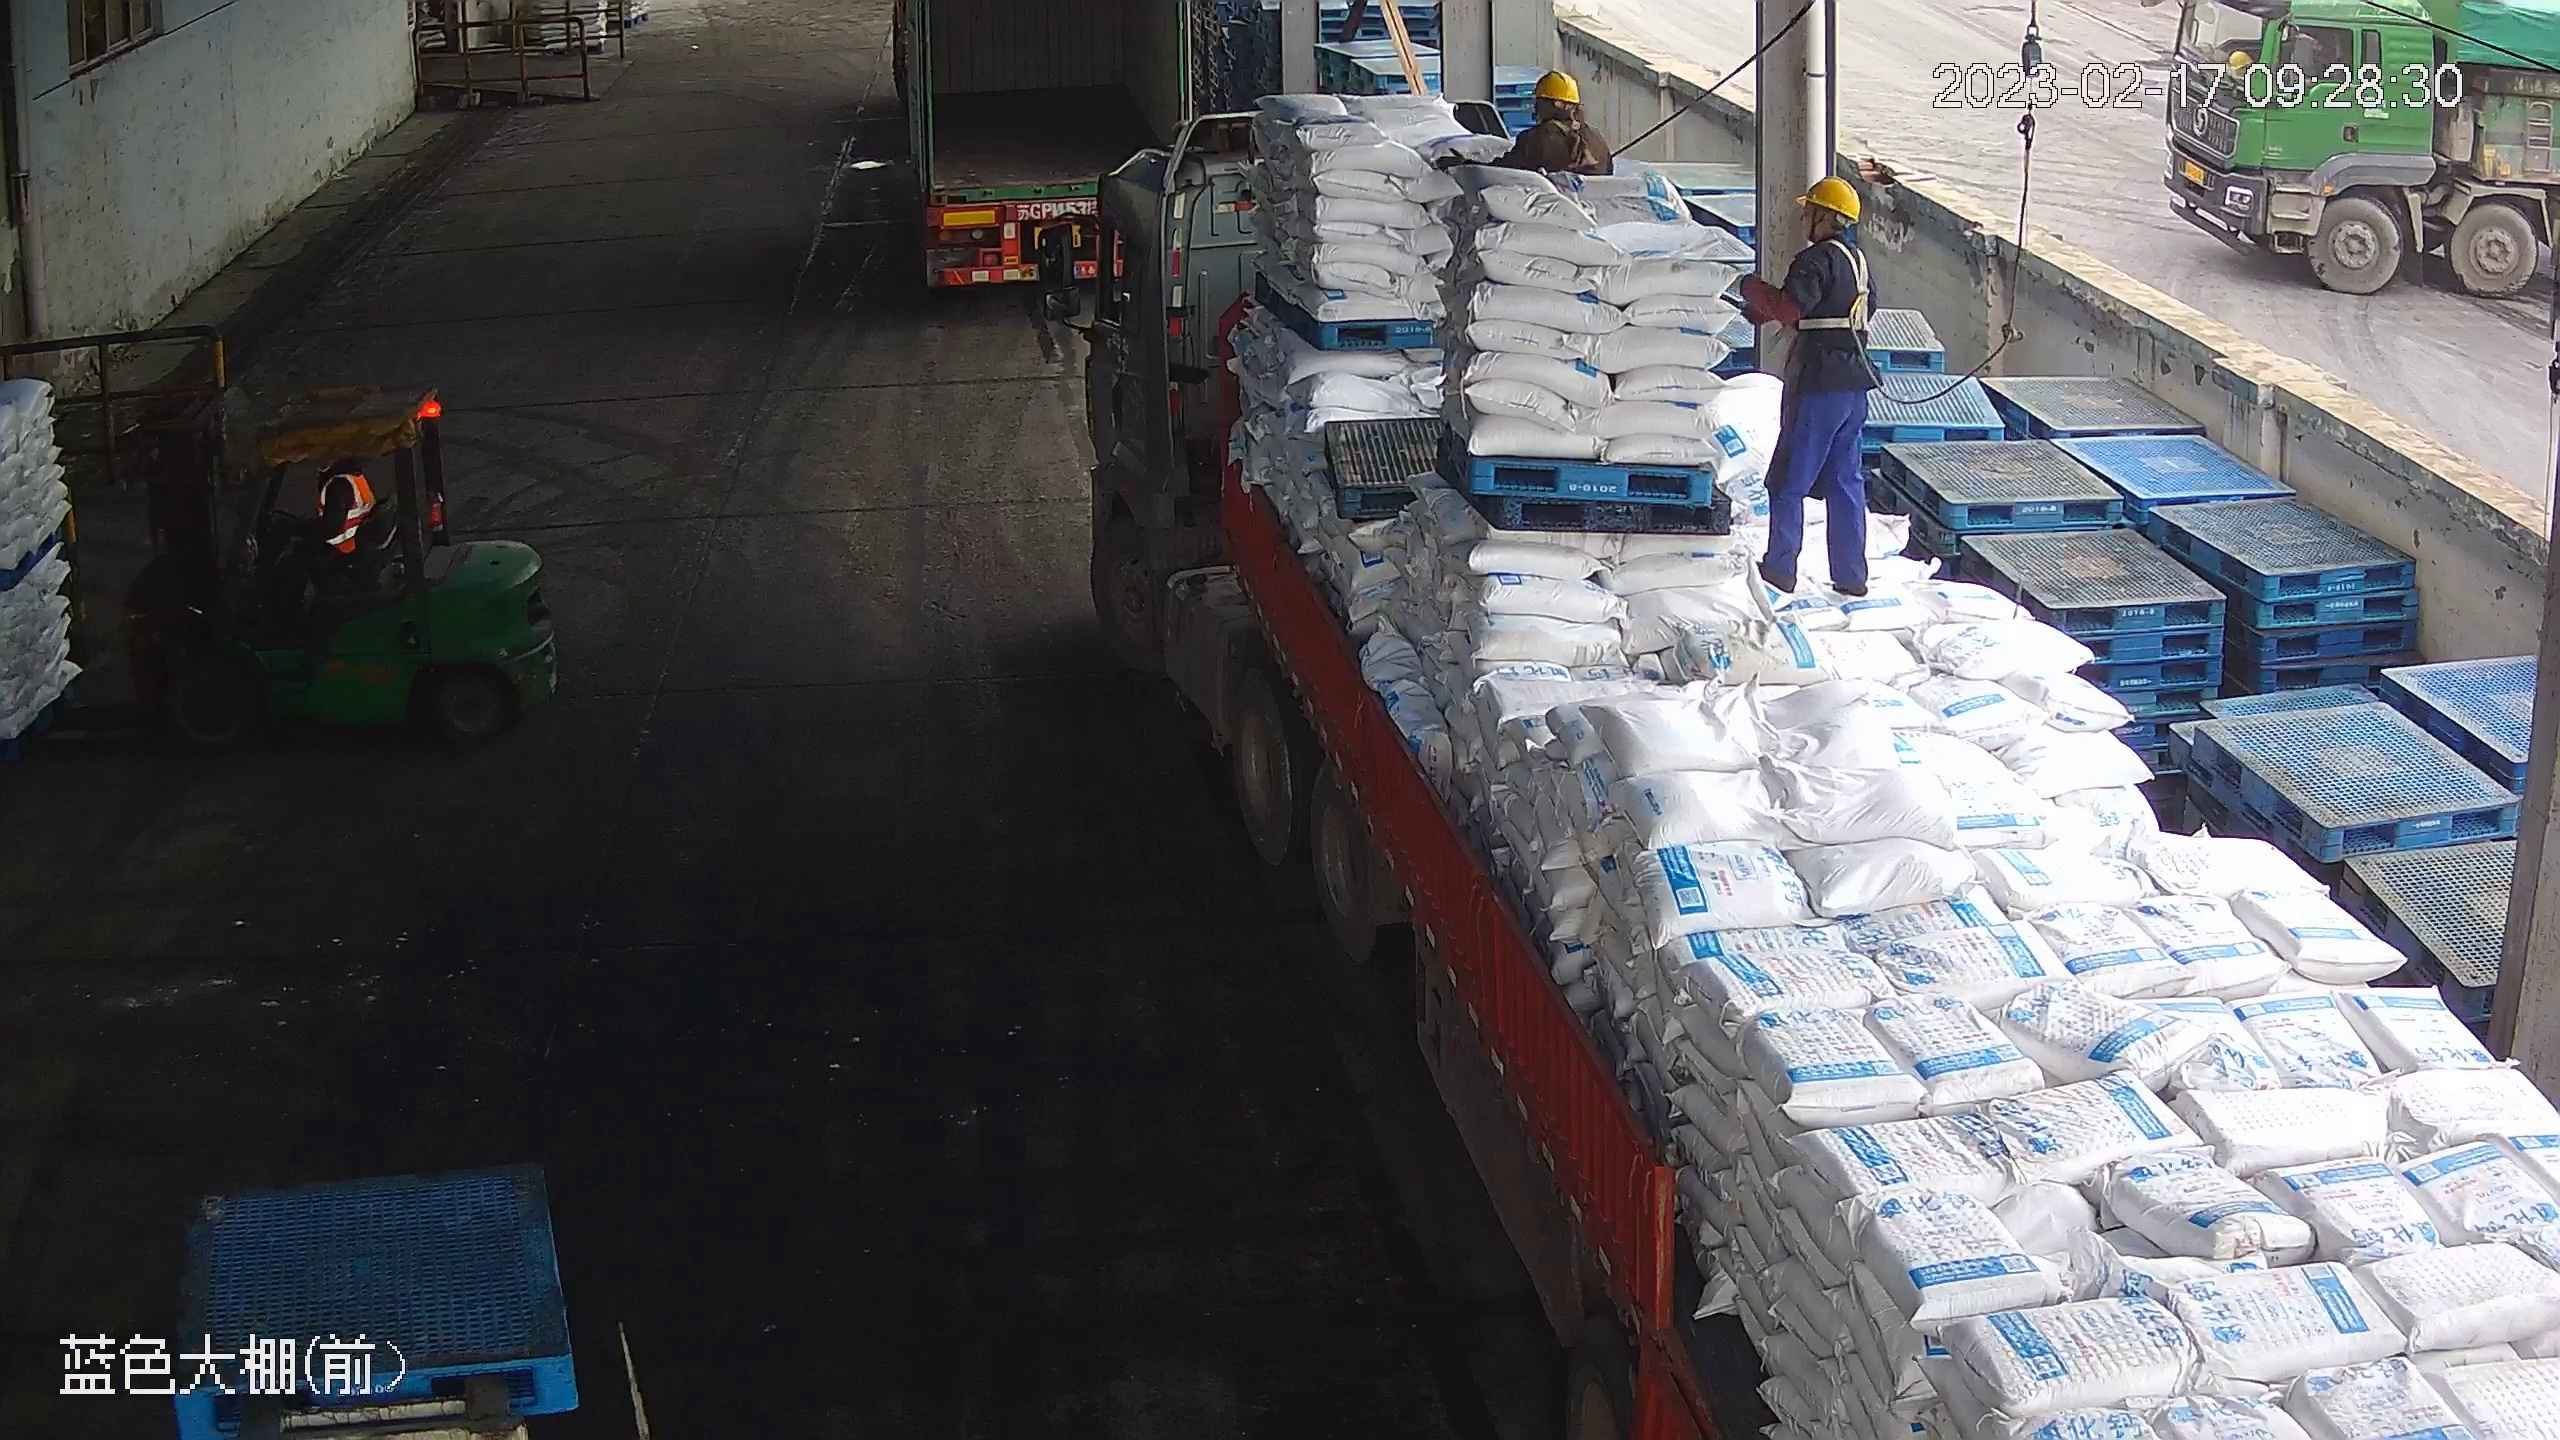belt: (1794, 236, 1878, 335), (1530, 105, 1602, 170)
head: (1775, 173, 1869, 286), (1514, 69, 1604, 158)
helmet: (1798, 172, 1862, 222), (1533, 66, 1582, 105)
people: (1736, 166, 1883, 603), (254, 455, 382, 617)
truck: (1032, 109, 2548, 1432), (885, 1, 1211, 304)
